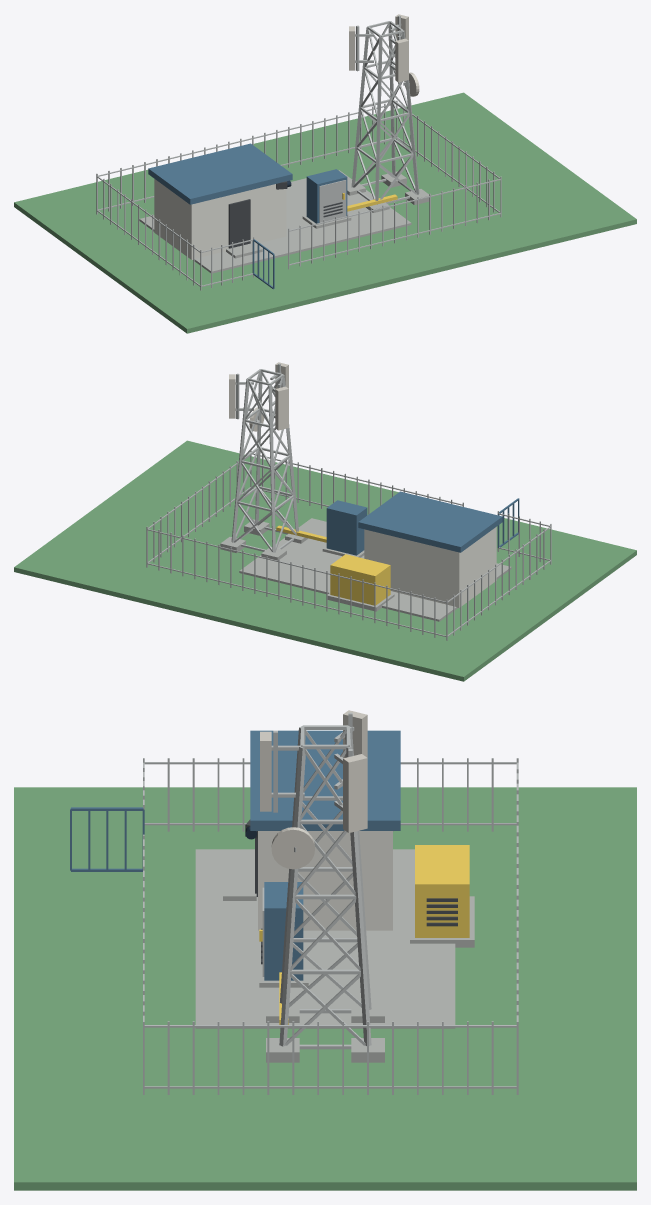
Rendered from telecom_site.glb.
3 renders of one model, top to bottom at view 1: azimuth 30°, elevation 25°; view 2: azimuth 150°, elevation 25°; view 3: azimuth 270°, elevation 25°, orthographic. The views are drawn at different scales.
Parts seen in each view (by area): view 1: Ground, Fence, Shelter, Tower Mast, Concrete Pad, Shelter Roof, Equipment Rack, Shelter Door, Cabinet Door, Tower Footings, Panel Antenna A, Access Gate; view 2: Ground, Fence, Shelter, Tower Mast, Shelter Roof, Concrete Pad, Power Enclosure, Equipment Rack, Tower Footings, Panel Antenna C, Access Gate; view 3: Ground, Concrete Pad, Tower Mast, Shelter Roof, Fence, Shelter, Power Enclosure, Equipment Rack, Tower Footings, Panel Antenna B, Microwave Dish, Access Gate (+6 smaller).
Boxes of the visible parts, box(x1,y1,x2,y2) form: Ground: box(14, 92, 636, 333); Fence: box(96, 100, 501, 290); Shelter: box(154, 179, 286, 259); Tower Mast: box(351, 21, 419, 204); Concrete Pad: box(139, 170, 411, 273); Shelter Roof: box(148, 143, 292, 204); Equipment Rack: box(306, 169, 347, 223); Shelter Door: box(228, 199, 250, 248); Cabinet Door: box(319, 180, 346, 222); Tower Footings: box(347, 171, 429, 212); Panel Antenna A: box(395, 38, 408, 82); Access Gate: box(252, 239, 274, 289); Ground: box(14, 440, 636, 681); Fence: box(146, 450, 551, 640); Shelter: box(364, 527, 496, 607); Tower Mast: box(231, 369, 298, 552); Shelter Roof: box(358, 491, 502, 552); Concrete Pad: box(239, 518, 511, 621); Power Enclosure: box(330, 554, 390, 605); Equipment Rack: box(326, 500, 367, 555); Tower Footings: box(220, 519, 308, 560); Panel Antenna C: box(275, 386, 288, 430); Access Gate: box(497, 498, 519, 547); Ground: box(14, 787, 636, 1190); Concrete Pad: box(195, 849, 455, 1028); Tower Mast: box(279, 725, 371, 1049); Shelter Roof: box(250, 730, 400, 830); Fence: box(143, 758, 518, 1094); Shelter: box(258, 831, 392, 930); Power Enclosure: box(415, 845, 469, 937); Equipment Rack: box(264, 882, 303, 980); Tower Footings: box(266, 1002, 384, 1062); Panel Antenna B: box(343, 754, 367, 832); Microwave Dish: box(271, 827, 314, 869); Access Gate: box(70, 807, 144, 871).
Bounding box in the file's own units: 18 × 6.68 × 12.
